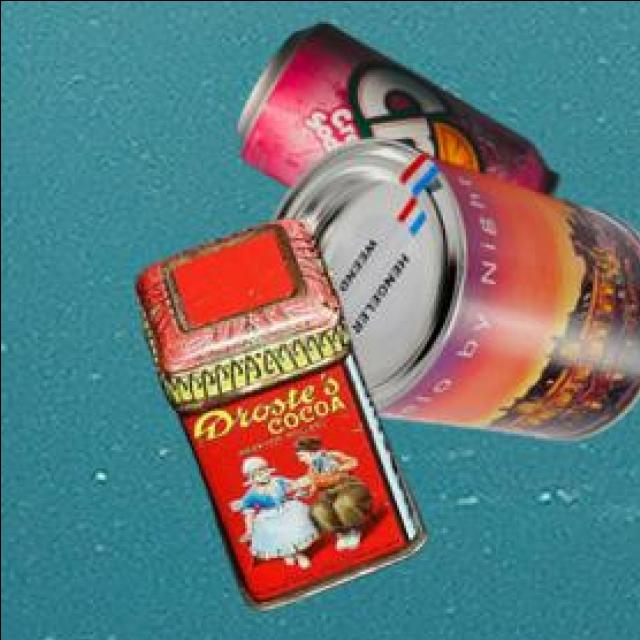logam: (132, 215, 422, 607), (268, 135, 640, 436), (234, 20, 556, 192)
